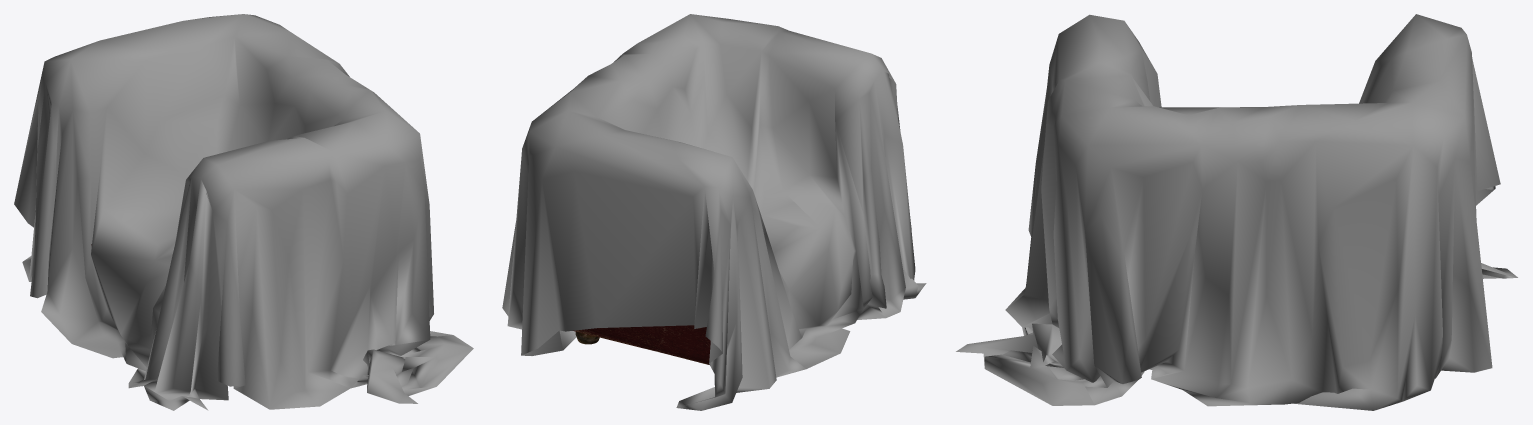
The model's file is SM_ChesterfieldChairCover.FBX.
3 renders of one model, left to right at view 1: azimuth 30°, elevation 25°; view 2: azimuth 150°, elevation 25°; view 3: azimuth 270°, elevation 25°, orthographic. The views are drawn at different scales.
Visible parts, largest first — view 1: SM_ChesterfieldChairCover_LOD0; view 2: SM_ChesterfieldChairCover_LOD0; view 3: SM_ChesterfieldChairCover_LOD0.
Part boxes in pixels (left/top/right/bottom): SM_ChesterfieldChairCover_LOD0: left=14, top=14, right=473, bottom=410; SM_ChesterfieldChairCover_LOD0: left=502, top=14, right=926, bottom=410; SM_ChesterfieldChairCover_LOD0: left=956, top=14, right=1517, bottom=410.
Size of what is drawn, in the model's own units: 148 by 110 by 208.
